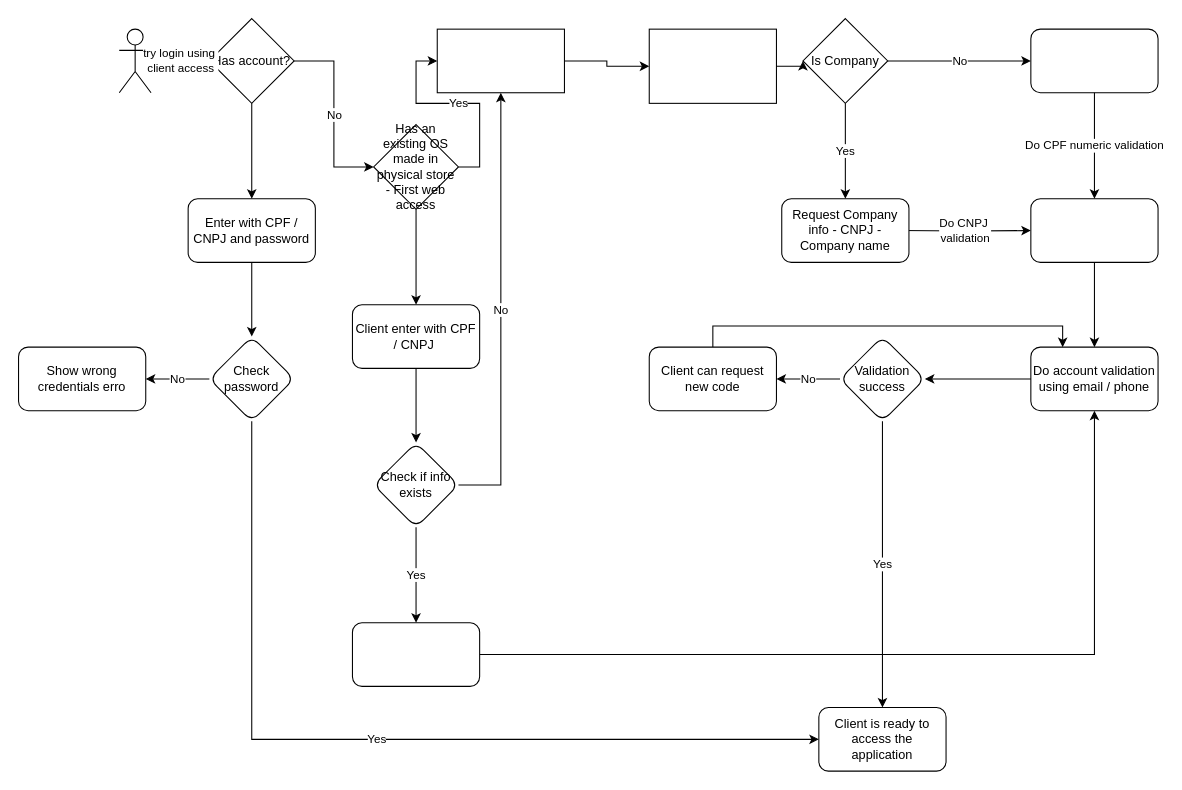
The diagram is 1182 pixels wide and 790 high, and some of its shapes have lost their labels. Each missing label, with the box of its shape:
Client: (118, 28, 151, 93)
Create a password and update missing required data: (351, 622, 480, 686)
Create new account: (436, 28, 564, 93)
Enter client data (Name, lastname, email, phone, password, birthdate): (648, 28, 776, 103)
Request address / company address: (1030, 198, 1158, 262)
Request CPF: (1030, 28, 1158, 93)
